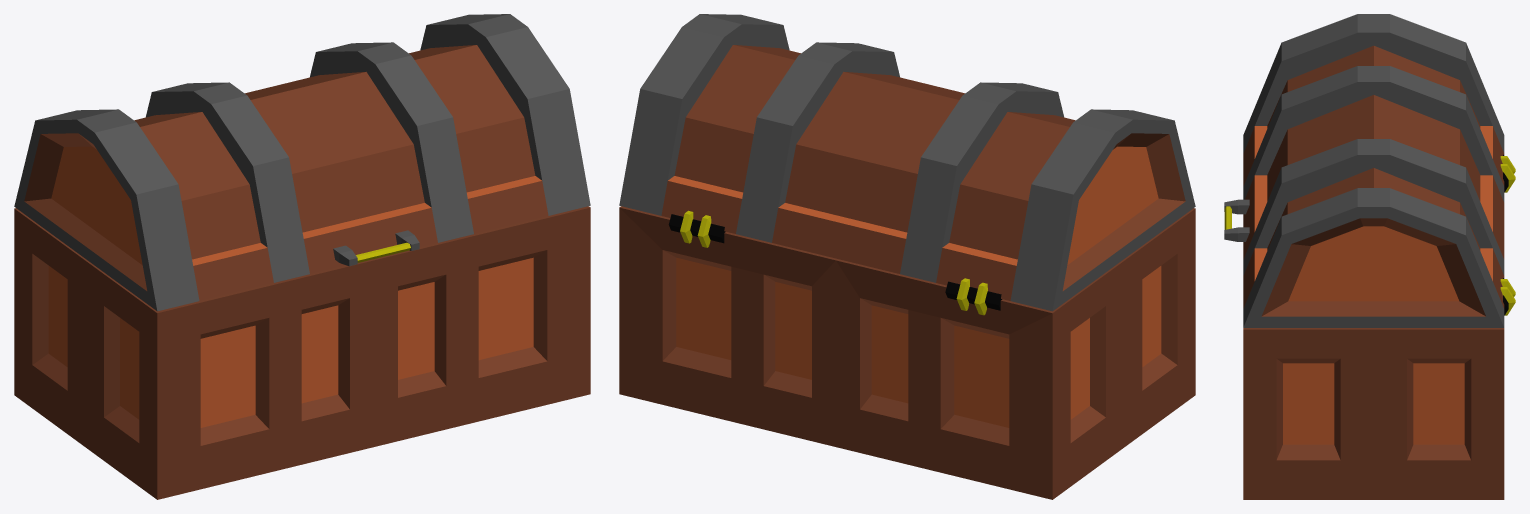
File: chest.fbx
3 views of the same model, side by side, from view 1: azimuth 30°, elevation 25°; view 2: azimuth 150°, elevation 25°; view 3: azimuth 270°, elevation 25° (orthographic). The views are drawn at different scales.
Visible parts, largest first — view 1: chest bottom, chest top; view 2: chest bottom, chest top; view 3: chest top, chest bottom.
Boxes of the visible parts, x1,y1,x2,y2 form: chest bottom: (14, 206, 590, 499); chest top: (14, 14, 590, 311); chest bottom: (619, 206, 1195, 499); chest top: (619, 14, 1195, 311); chest top: (1224, 14, 1504, 327); chest bottom: (1243, 154, 1515, 499).
Bounding box in the file's own units: 1.09 × 0.7758 × 0.6991.
